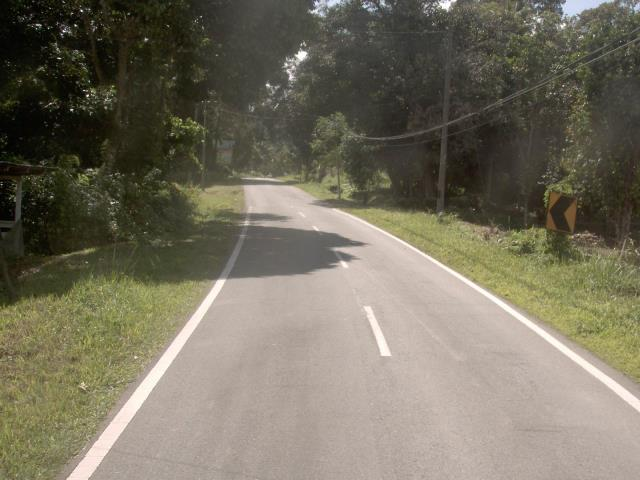traffic_sign: (539, 185, 587, 242)
